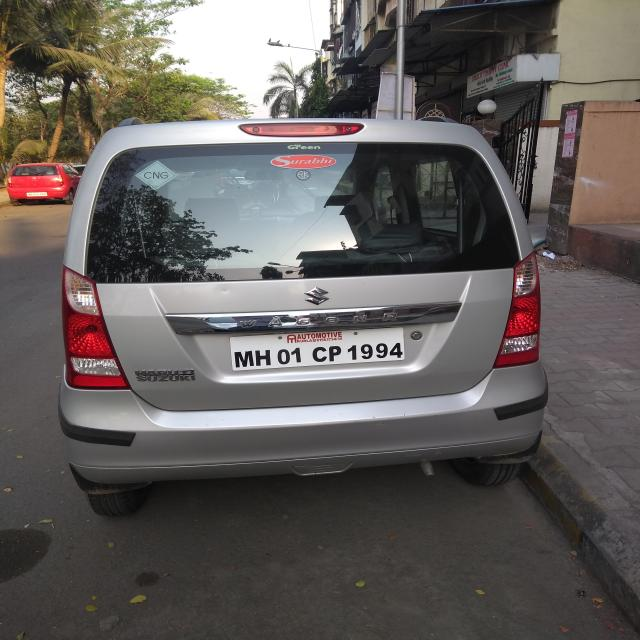Number-Plate: (229, 333, 412, 371)
